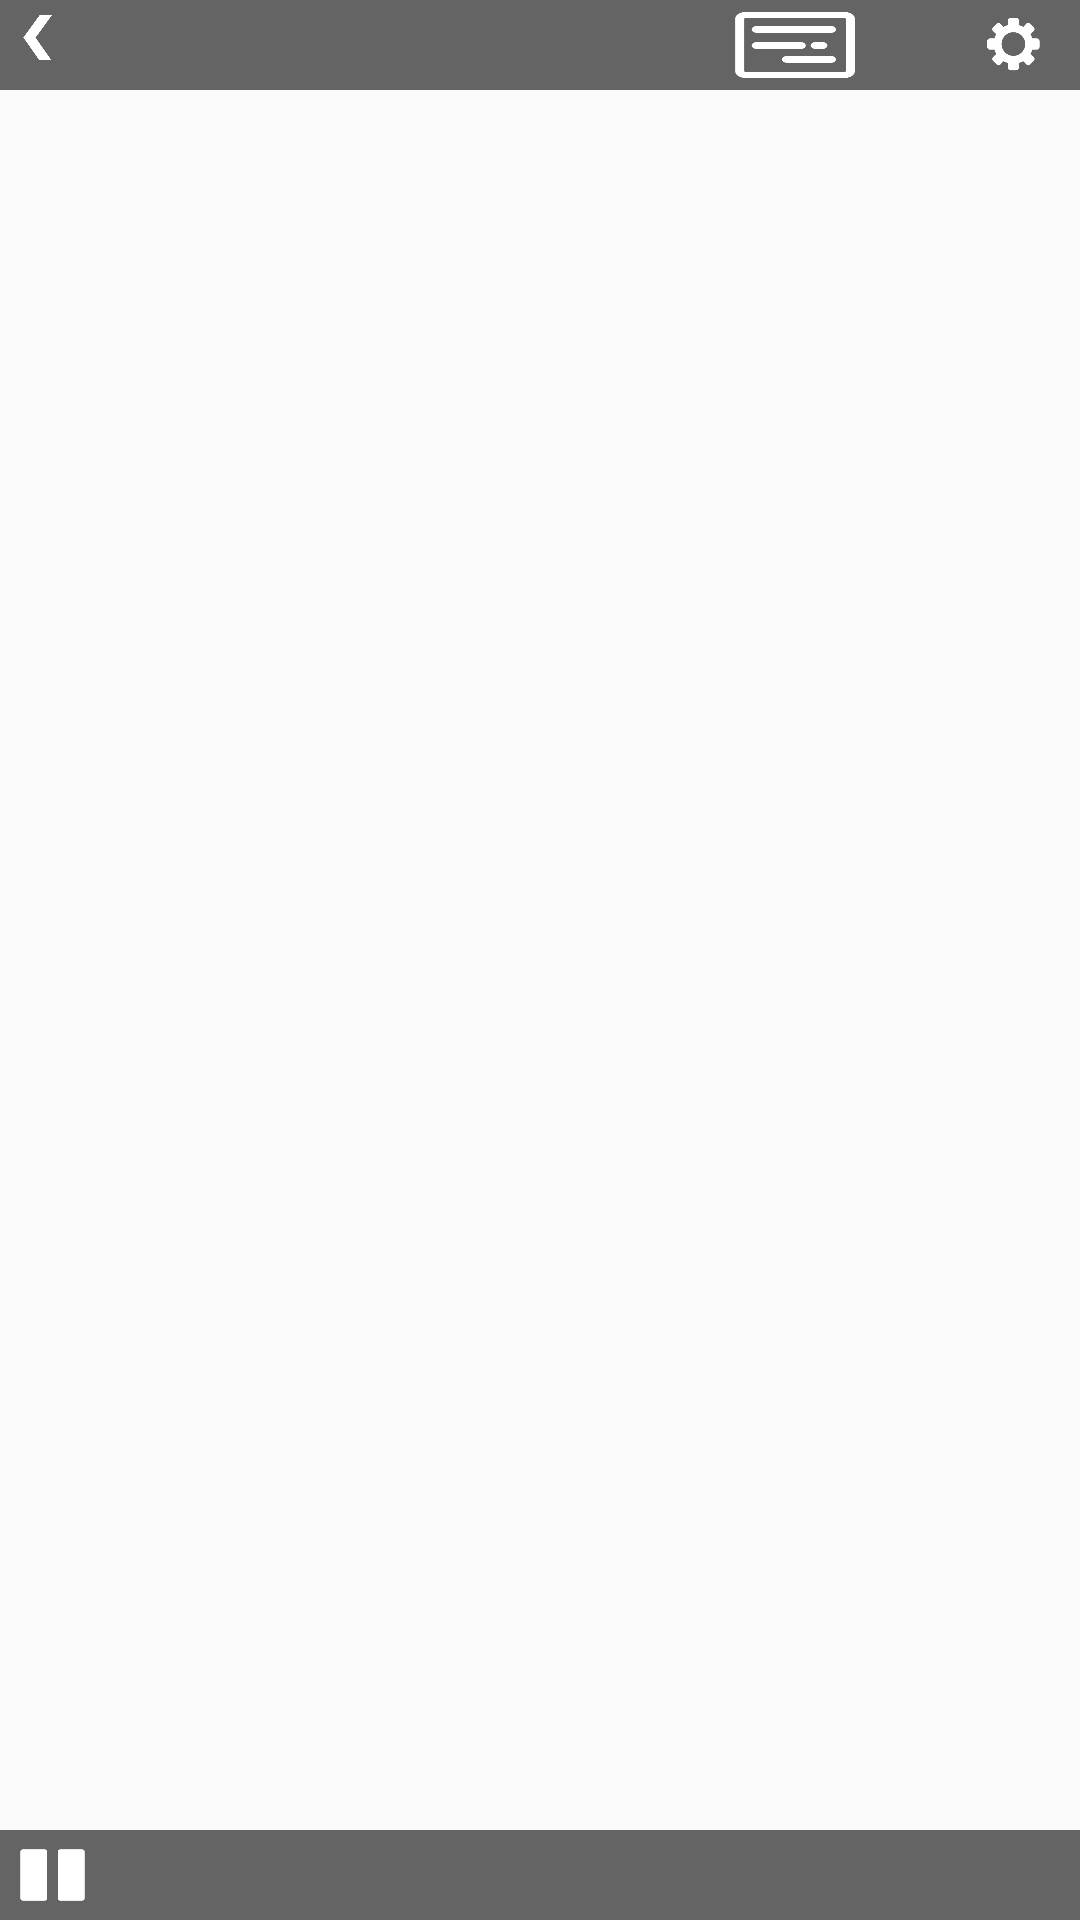

Screen size 1080 x 1920. Icon name, then its center in pixels as (x=x, y=y):
back: (x=37, y=37)
setting: (x=1013, y=44)
